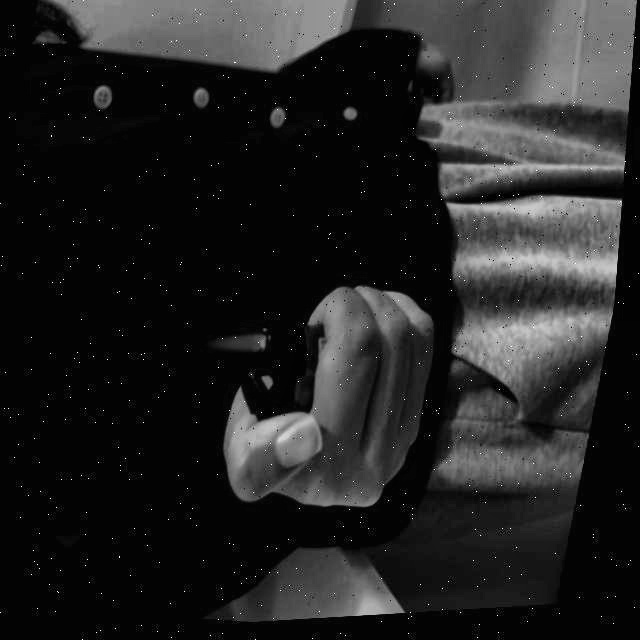Fire: (198, 323, 279, 362)
